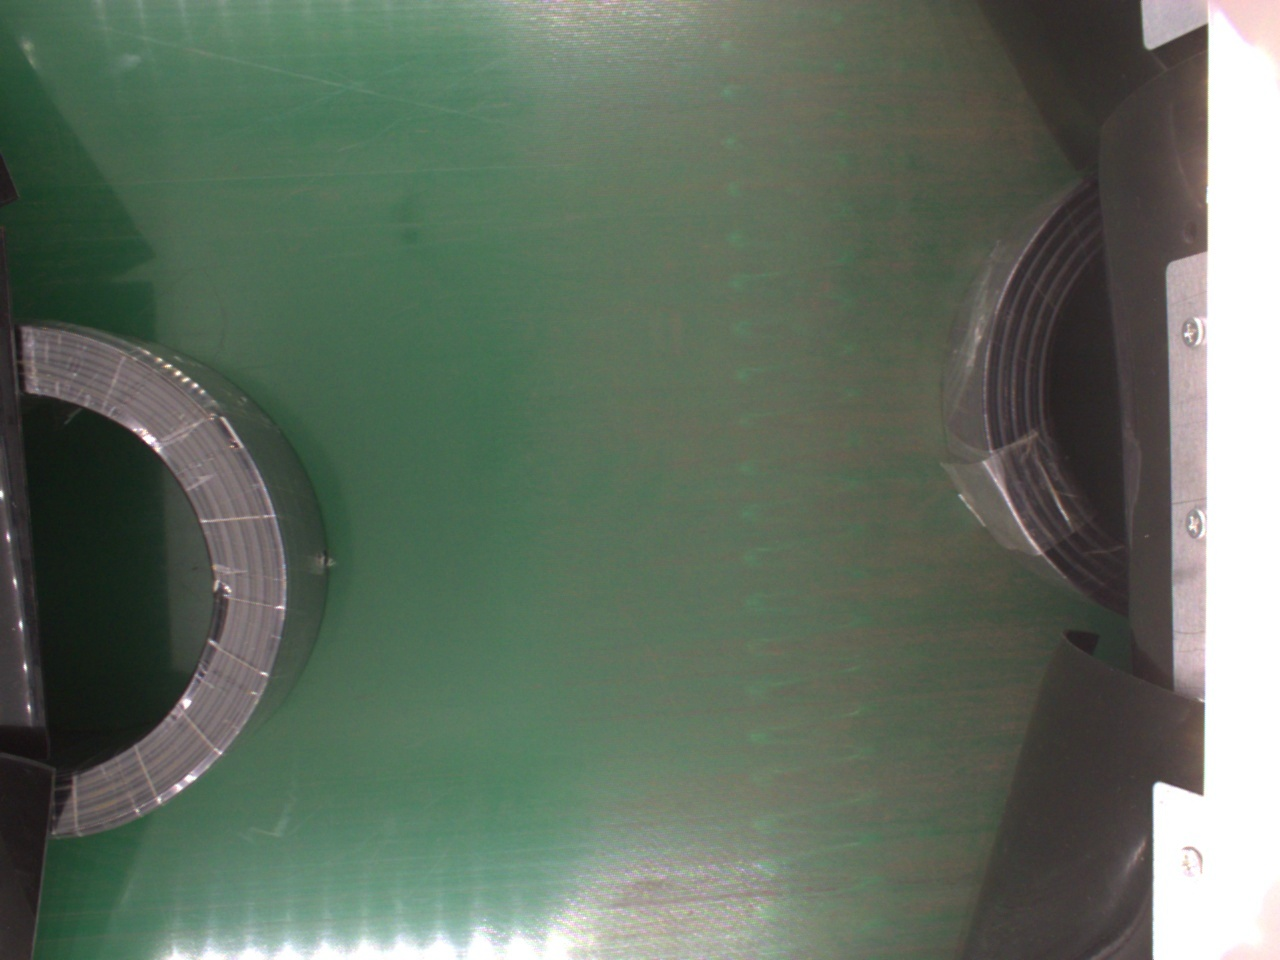black: (17, 321, 321, 837), (940, 168, 1133, 621)
